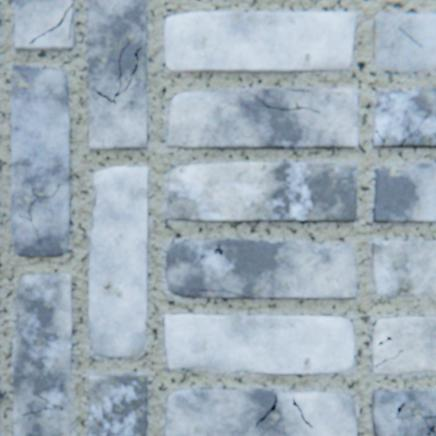brick: (165, 13, 355, 73), (166, 89, 356, 149), (165, 163, 355, 222), (12, 66, 70, 257), (89, 168, 147, 357), (166, 240, 355, 298), (165, 315, 352, 373), (13, 274, 72, 435), (165, 389, 355, 435), (88, 0, 146, 150), (372, 164, 435, 222), (372, 15, 435, 73), (372, 90, 435, 148), (371, 317, 435, 373), (371, 241, 435, 297), (89, 375, 146, 435), (15, 0, 73, 52), (371, 391, 435, 435)
crack: (96, 42, 141, 104), (29, 5, 72, 45), (254, 393, 276, 427), (291, 398, 311, 427), (396, 28, 421, 48), (209, 290, 246, 298), (258, 100, 282, 110), (43, 184, 60, 198), (393, 402, 407, 418), (405, 123, 419, 139), (36, 404, 63, 412), (19, 208, 32, 222), (284, 108, 317, 113), (375, 130, 383, 146), (377, 336, 390, 345), (69, 13, 73, 42), (374, 358, 388, 366), (390, 349, 401, 358), (32, 188, 41, 198), (425, 423, 433, 434), (290, 90, 311, 94), (214, 245, 222, 255), (21, 411, 34, 415), (409, 412, 420, 416)
